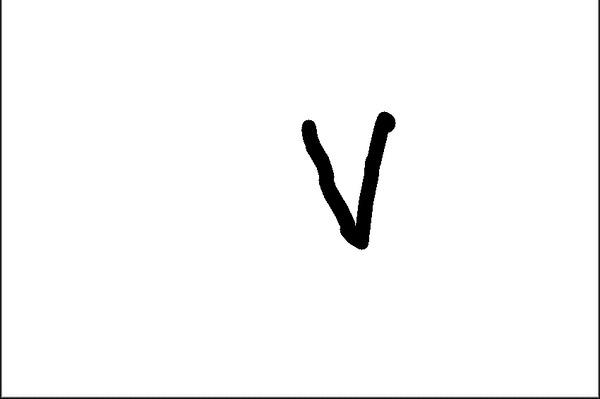V: (291, 98, 407, 250)
